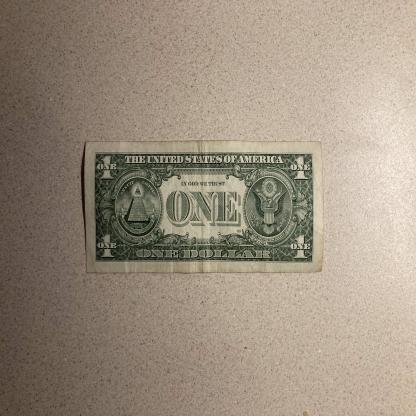dollar_back: (84, 138, 324, 274)
